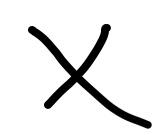mult: (27, 24, 152, 129)
